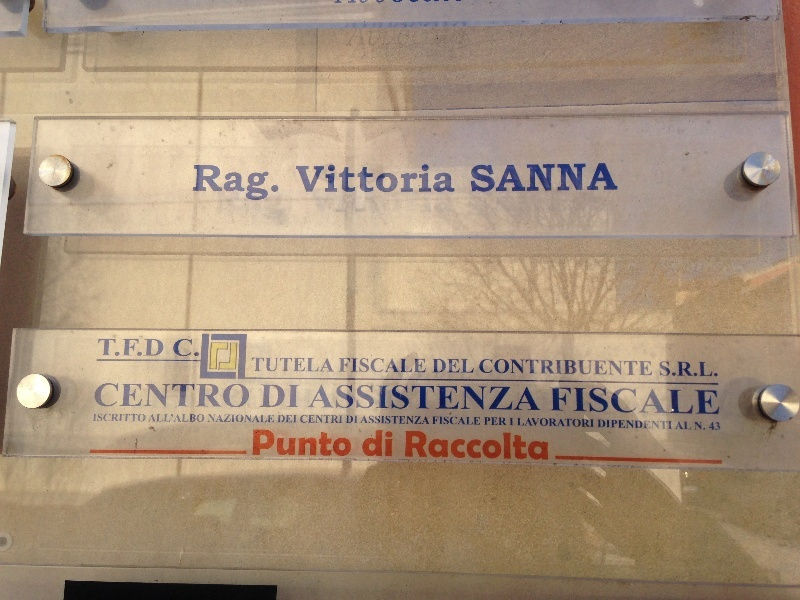text: (209, 164, 224, 206), (225, 164, 240, 206), (241, 164, 256, 206), (257, 164, 272, 206), (273, 164, 288, 206), (194, 164, 208, 206), (417, 431, 432, 461), (433, 431, 448, 461), (449, 431, 464, 461), (465, 431, 480, 461), (481, 431, 496, 461), (497, 431, 512, 461), (513, 431, 528, 461), (529, 431, 544, 461), (337, 429, 353, 457), (305, 164, 320, 193), (321, 164, 336, 193), (337, 164, 352, 193), (353, 164, 368, 193), (369, 164, 384, 193), (385, 164, 400, 193), (401, 164, 416, 193), (417, 164, 432, 193), (433, 164, 448, 193), (481, 163, 496, 192), (497, 163, 512, 192), (513, 163, 528, 192), (529, 163, 544, 192), (545, 163, 560, 192), (561, 163, 576, 192), (577, 163, 592, 192), (593, 163, 608, 192), (561, 387, 576, 416), (577, 387, 592, 416), (593, 387, 608, 416), (609, 387, 624, 416), (625, 387, 640, 416), (641, 387, 656, 416), (657, 387, 672, 416), (673, 387, 688, 416), (689, 387, 704, 416), (705, 387, 720, 416), (257, 429, 272, 457), (273, 429, 288, 457), (289, 429, 304, 457), (305, 429, 320, 457), (321, 429, 336, 457), (353, 21, 368, 48), (369, 21, 384, 48), (385, 21, 400, 48), (401, 21, 416, 48), (417, 21, 432, 48), (433, 21, 448, 48), (449, 21, 464, 48), (337, 385, 352, 412), (353, 385, 368, 412), (369, 385, 384, 412), (385, 385, 400, 412), (401, 385, 416, 412), (417, 385, 432, 412), (433, 385, 448, 412), (449, 385, 464, 412), (465, 385, 480, 412), (481, 385, 496, 412), (497, 385, 512, 412), (513, 385, 528, 412), (369, 431, 384, 457), (322, 385, 336, 412), (97, 384, 112, 409), (113, 384, 128, 409), (129, 384, 144, 409), (145, 384, 160, 409), (161, 384, 176, 409), (177, 384, 192, 409), (193, 384, 208, 409), (209, 384, 224, 409), (225, 384, 240, 409), (273, 384, 288, 409), (529, 385, 542, 412), (468, 163, 480, 192), (405, 431, 416, 461), (97, 338, 112, 358), (113, 338, 128, 358), (129, 338, 144, 358), (145, 338, 160, 358), (289, 384, 301, 409), (609, 163, 619, 192), (550, 387, 560, 416), (241, 384, 252, 409), (261, 384, 272, 409), (177, 339, 192, 357), (497, 359, 512, 377), (513, 359, 528, 377), (529, 359, 544, 377), (545, 359, 560, 377), (561, 359, 576, 377), (577, 359, 592, 377), (593, 359, 608, 377), (609, 359, 624, 377), (625, 359, 640, 377), (295, 164, 304, 193), (673, 361, 688, 378), (689, 361, 704, 378), (705, 361, 720, 378), (482, 359, 496, 377), (433, 358, 448, 374), (449, 358, 464, 374), (257, 357, 272, 372), (273, 357, 288, 372), (289, 357, 304, 372), (305, 357, 320, 372), (353, 358, 368, 373), (369, 358, 384, 373), (385, 358, 400, 373), (401, 358, 416, 373), (659, 361, 672, 378), (641, 359, 653, 377), (385, 431, 393, 457), (449, 164, 456, 193), (321, 357, 334, 372), (339, 358, 352, 373), (345, 21, 352, 48), (465, 358, 476, 374), (529, 417, 544, 428), (545, 417, 560, 428), (561, 417, 576, 428), (577, 417, 592, 428), (609, 419, 624, 430), (625, 419, 640, 430), (641, 419, 656, 430), (657, 419, 672, 430), (97, 413, 112, 423), (113, 413, 128, 423), (129, 413, 144, 423), (465, 417, 481, 426), (417, 358, 426, 373), (177, 414, 192, 423), (209, 414, 224, 423), (225, 414, 240, 423), (241, 414, 256, 423), (257, 414, 272, 423), (369, 416, 384, 425), (385, 416, 400, 425), (401, 416, 416, 425), (433, 417, 448, 426), (449, 417, 464, 426), (193, 339, 200, 357), (517, 417, 528, 428), (305, 415, 320, 423), (321, 415, 336, 423), (545, 431, 549, 461), (161, 414, 174, 423), (193, 414, 206, 423), (417, 416, 430, 425), (598, 419, 608, 430), (465, 21, 469, 48), (484, 417, 496, 426), (497, 417, 507, 426), (678, 421, 688, 430), (694, 421, 704, 430), (253, 429, 256, 457), (278, 415, 288, 423), (365, 431, 368, 457), (251, 357, 256, 372), (152, 414, 160, 423), (289, 415, 298, 423), (712, 422, 720, 431), (161, 338, 164, 358), (346, 415, 352, 424), (337, 415, 343, 423), (337, 1, 352, 4), (353, 1, 368, 4), (369, 1, 384, 4), (385, 1, 400, 4), (401, 1, 416, 4), (417, 1, 432, 4), (433, 1, 448, 4), (353, 415, 358, 424), (449, 1, 462, 4), (364, 416, 368, 425), (689, 421, 693, 430), (93, 413, 96, 423), (721, 387, 722, 416), (301, 415, 304, 423), (175, 339, 176, 357), (273, 414, 275, 423), (721, 361, 722, 378), (510, 418, 512, 426), (593, 417, 594, 428), (145, 413, 146, 423), (705, 421, 706, 430), (513, 418, 514, 426)
